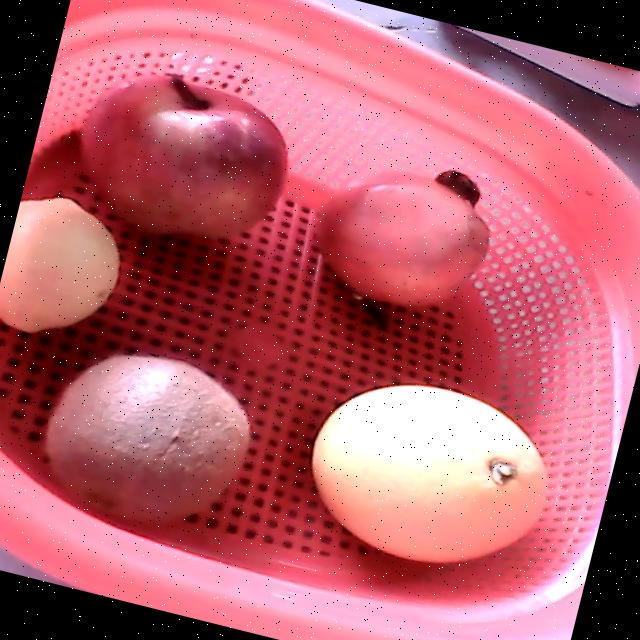apple: (79, 72, 288, 239)
kiwi: (44, 353, 250, 527)
lemon: (0, 196, 118, 331)
orange: (311, 383, 548, 562)
pomegranate: (310, 166, 489, 304)
